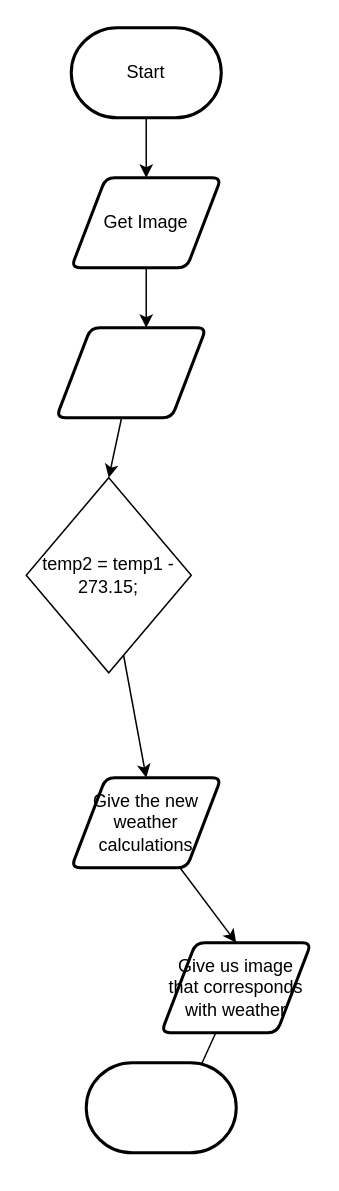
Image size: 339x1191. Some labels were removed from this diagram. Here are the shapes that lost their labels. From the top down, the centre of each, then its label:
pixel 130 372: grab the current weather from website
pixel 160 1107: stop
